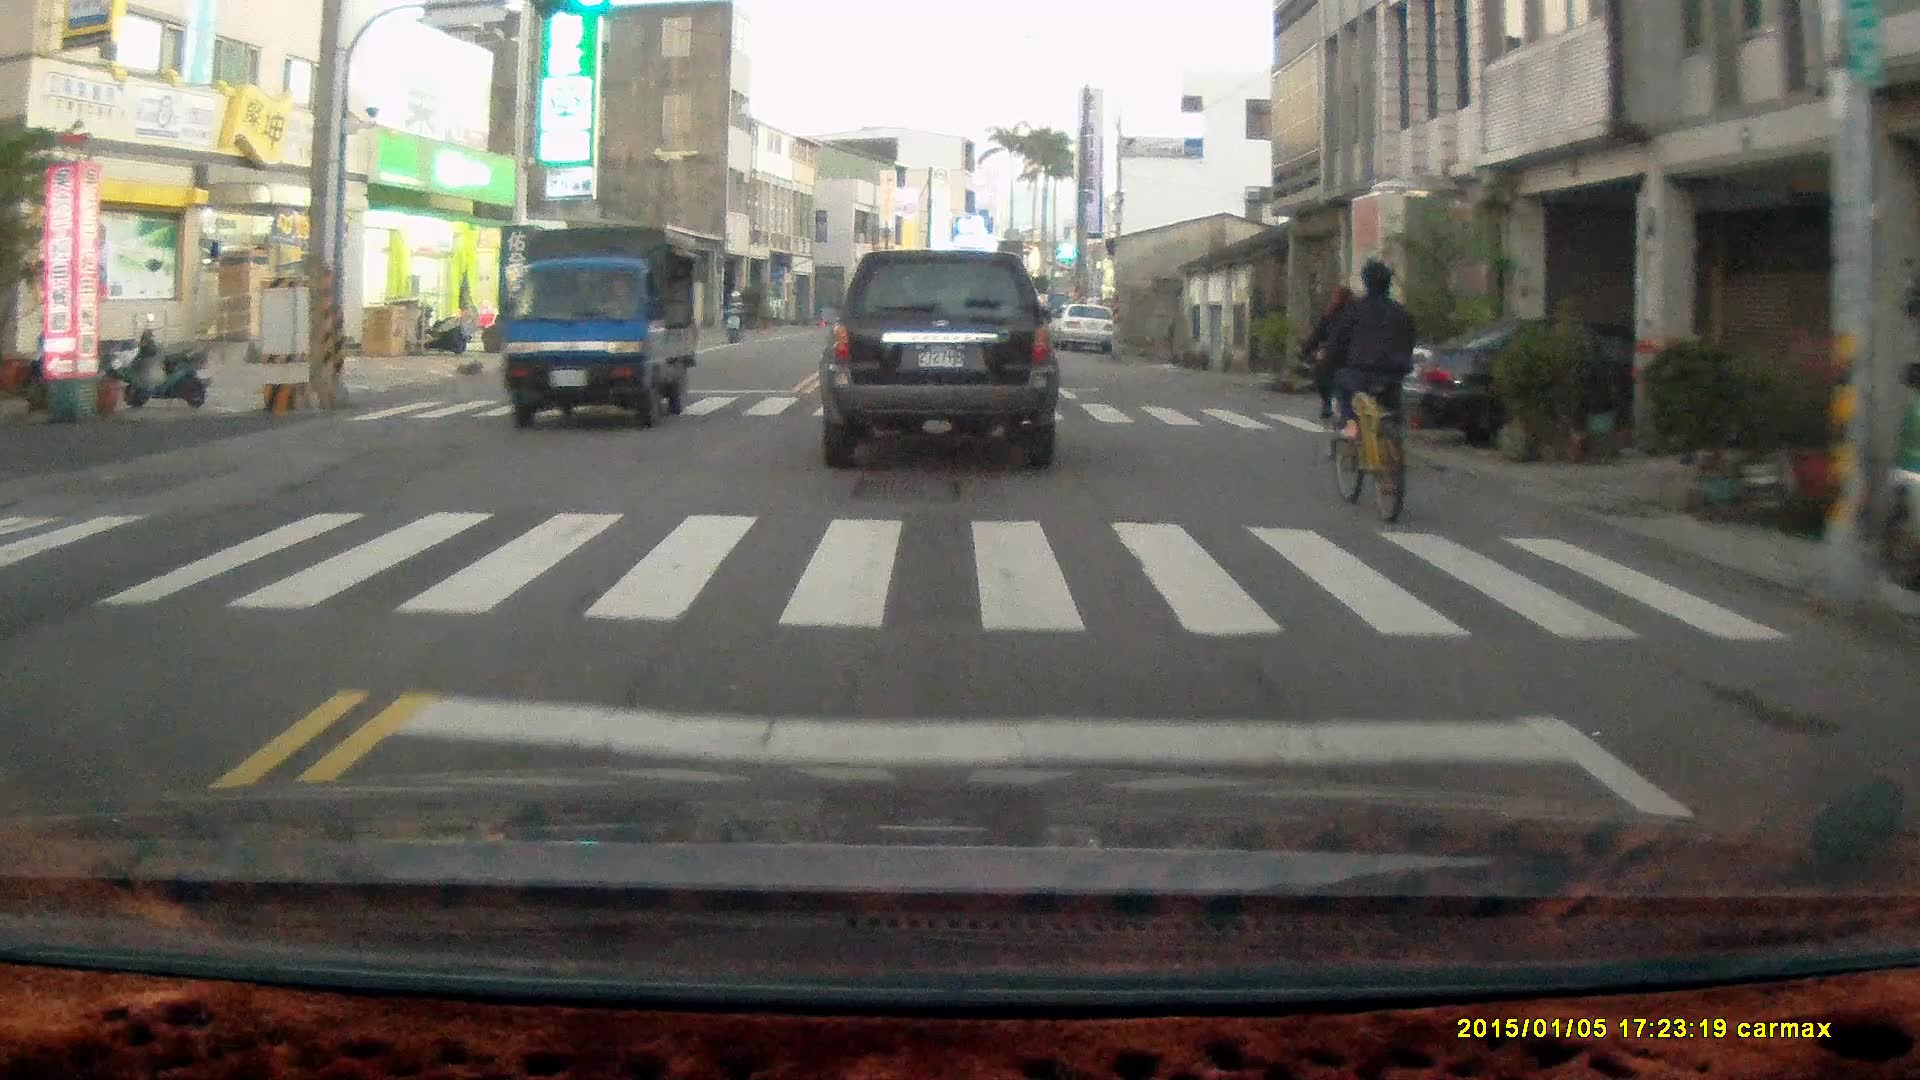rider: (1317, 259, 1419, 525), (1306, 276, 1375, 463), (721, 288, 745, 344)
vehicle: (1399, 319, 1783, 462), (818, 248, 1062, 471), (500, 223, 706, 429), (1057, 304, 1118, 354)
